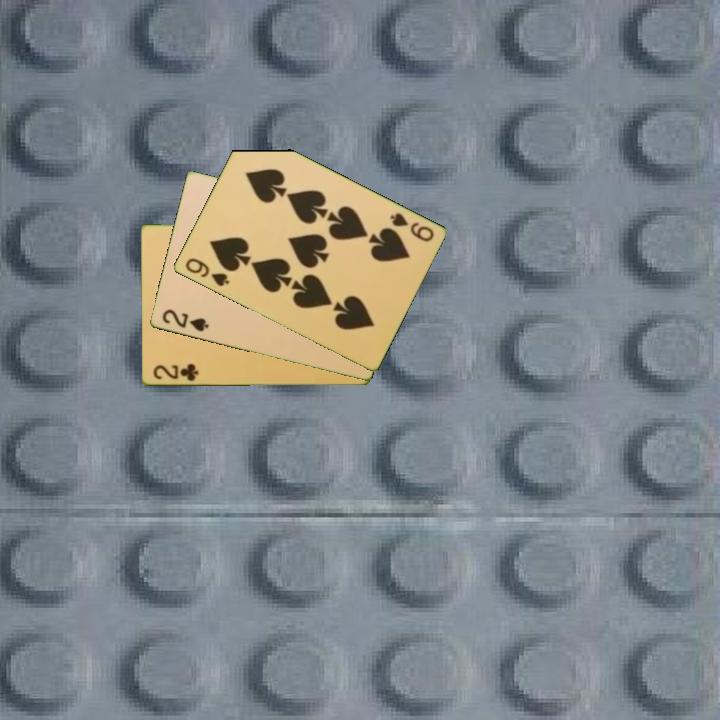2c: (149, 361, 201, 384)
2s: (158, 306, 211, 335)
9s: (386, 209, 436, 245), (181, 255, 232, 290)
